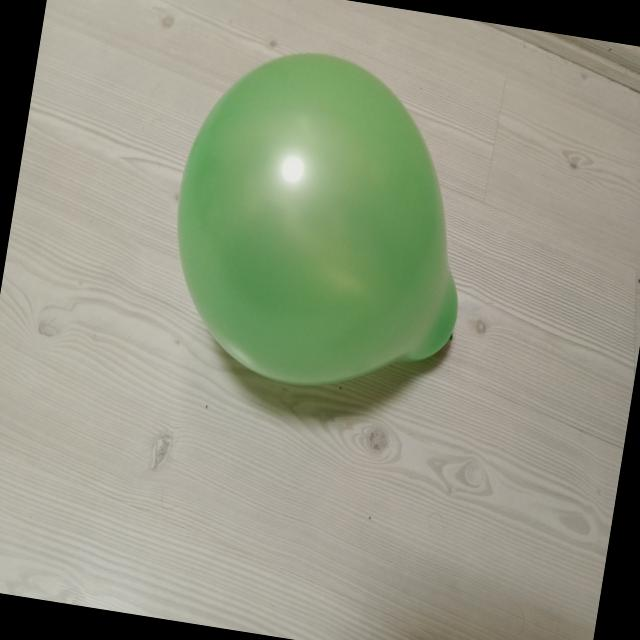balloon: (162, 16, 174, 27)
